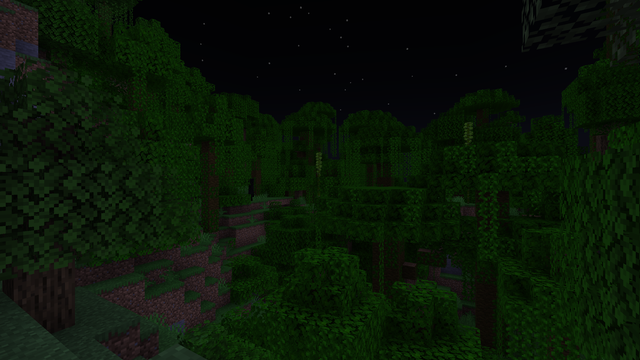endermens: (247, 177, 254, 200)
